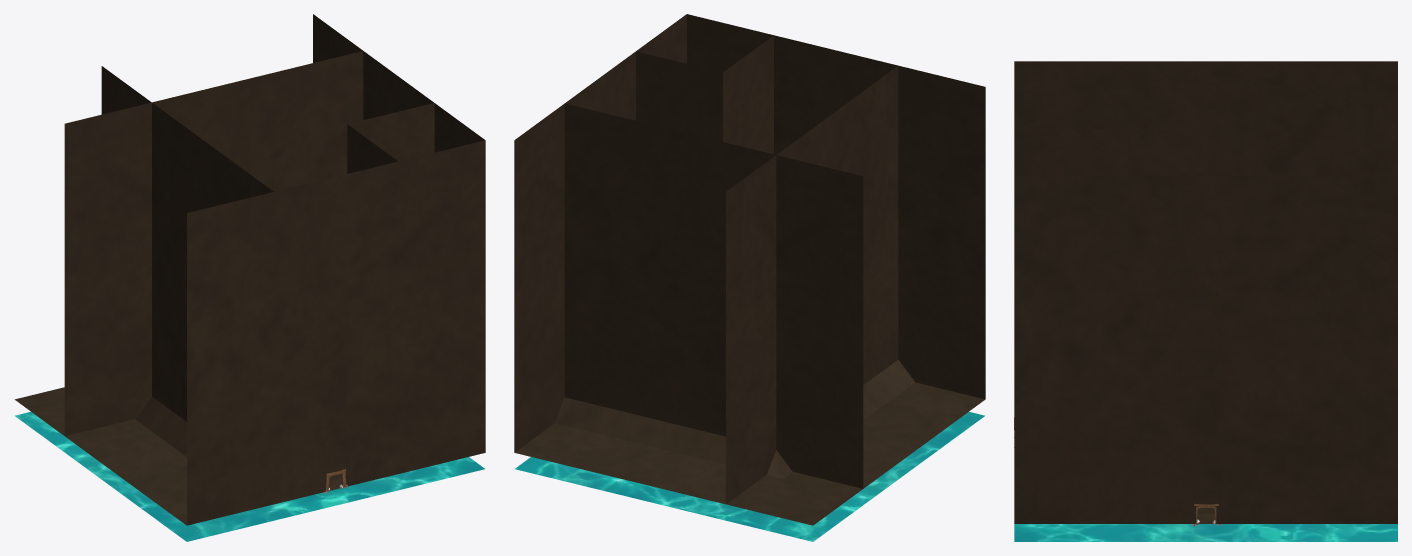
Rendered from Room006.fbx.
3 views of the same model, side by side, from view 1: azimuth 30°, elevation 25°; view 2: azimuth 150°, elevation 25°; view 3: azimuth 270°, elevation 25° (orthographic). The views are drawn at different scales.
Visible parts, largest first — view 1: 4ParedN, 2ParedSinPuertaS, 3ParedSinPuertaE, 1Suelo.013, Agua, 1ParedW, 1ParedSinPuertaW.001, 4Pared.002N, 4Pared.001N; view 2: 2ParedSinPuertaS, 4ParedN, 3ParedSinPuertaE, 1Suelo.013, 1ParedW, 1ParedSinPuertaW.001, Agua, 4Pared.001N, 1Pared.001W; view 3: 1ParedW, 3ParedSinPuertaE, Agua, 1ParedSinPuertaW.001, 1Pared.001W, 1Pared.002W.
Part boxes in pixels (x1,y1,x2,y2): 4ParedN: (187,140,485,509); 2ParedSinPuertaS: (64,51,363,435); 3ParedSinPuertaE: (101,66,273,421); 1Suelo.013: (14,387,341,525); Agua: (15,412,484,541); 1ParedW: (313,14,484,152); 1ParedSinPuertaW.001: (347,103,434,173); 4Pared.002N: (345,437,485,486); 4Pared.001N: (187,476,326,525); 2ParedSinPuertaS: (564,103,863,488); 4ParedN: (687,14,985,383); 3ParedSinPuertaE: (726,66,898,503); 1Suelo.013: (514,359,985,525); 1ParedW: (514,14,686,436); 1ParedSinPuertaW.001: (636,35,773,154); Agua: (515,412,984,541); 4Pared.001N: (901,363,985,399); 1Pared.001W: (514,402,562,452); 1ParedW: (1014,176,1397,506); 3ParedSinPuertaE: (1014,61,1397,175); Agua: (1014,524,1397,541); 1ParedSinPuertaW.001: (1014,129,1127,175); 1Pared.001W: (1216,506,1397,523); 1Pared.002W: (1014,506,1195,523).
Bounding box in the file's own units: 9600 × 10200 × 9605.
